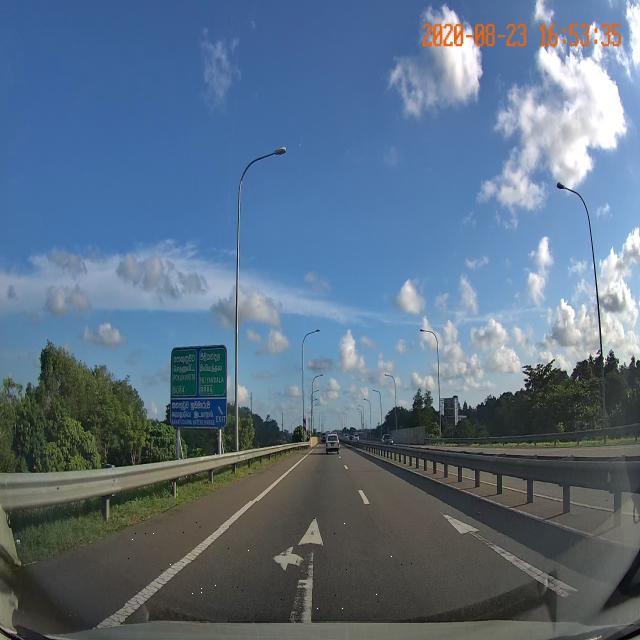forward_lft: (126, 502, 423, 622), (144, 512, 422, 596), (176, 528, 404, 563)
